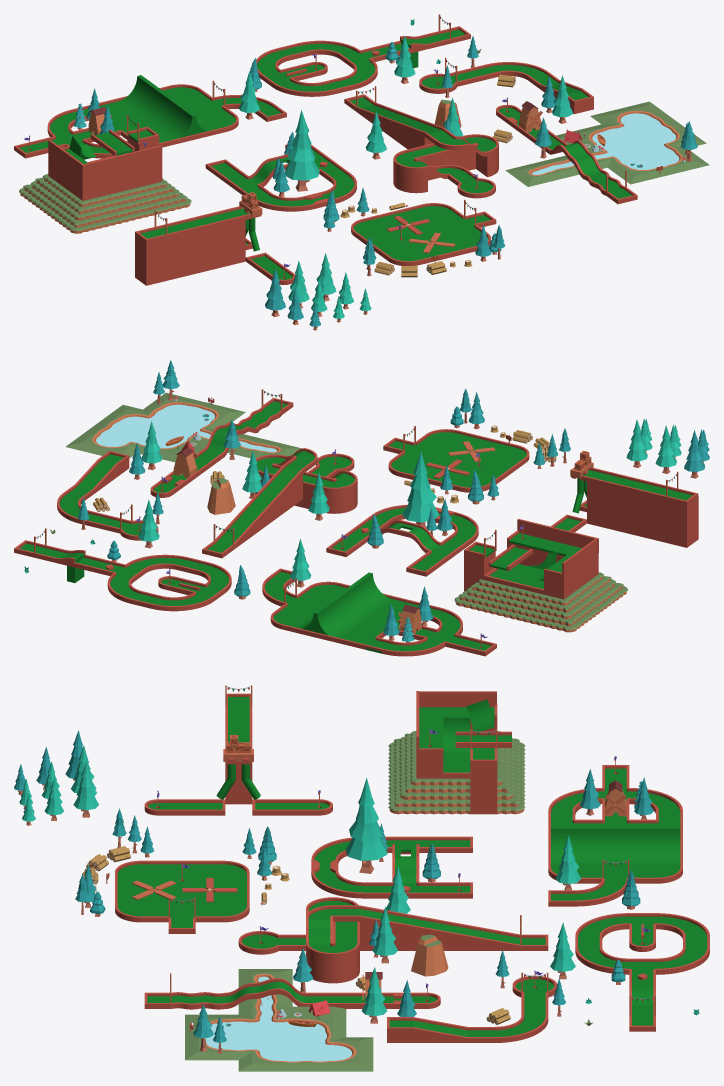
File: forest_slim.glb
3 renders of one model, top to bottom at view 1: azimuth 30°, elevation 25°; view 2: azimuth 150°, elevation 25°; view 3: azimuth 270°, elevation 25°, orthographic. The views are drawn at different scales.
Visible parts, largest first — view 1: poles_garlandFlags.005; view 2: poles_garlandFlags.005; view 3: poles_garlandFlags.005.
Boxes of the visible parts, x1,y1,x2,y2 form: poles_garlandFlags.005: (14, 14, 709, 330); poles_garlandFlags.005: (14, 360, 709, 656); poles_garlandFlags.005: (14, 685, 709, 1071).
Bounding box in the file's own units: 28.65 × 4.63 × 25.85.
